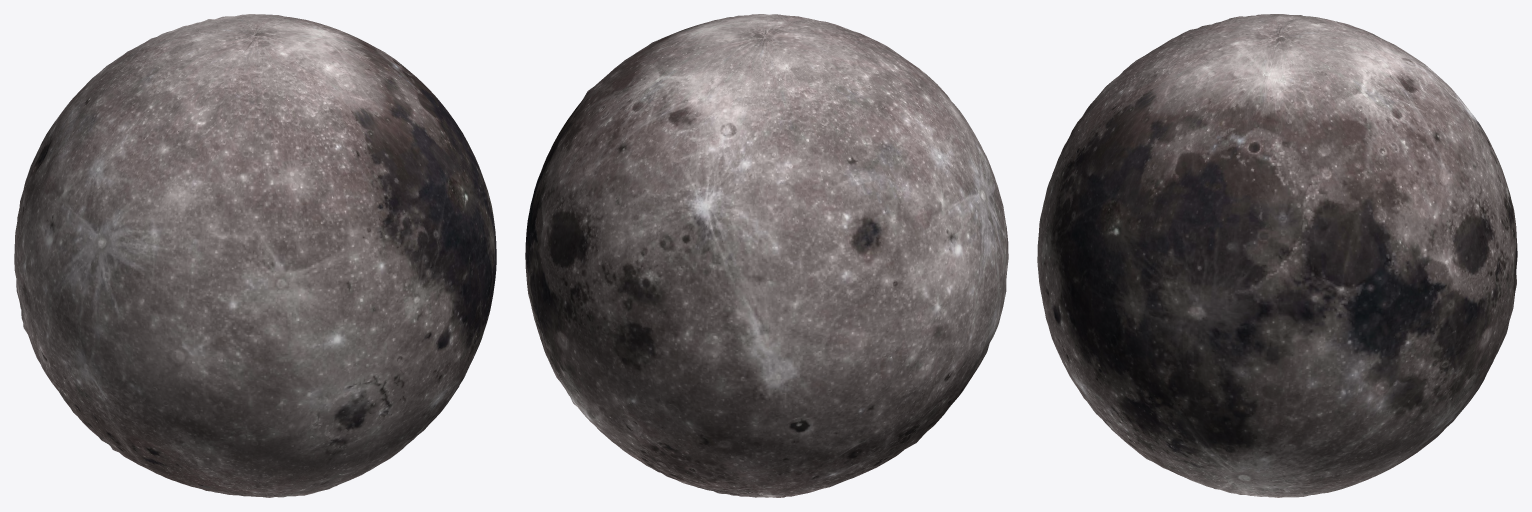
Rendered from nasa-moon-topo-128.glb.
The picture shows the model from 3 angles, left to right: view 1: azimuth 30°, elevation 25°; view 2: azimuth 150°, elevation 25°; view 3: azimuth 270°, elevation 25°; orthographic projection.
Parts seen in each view (by area): view 1: NASA Moon; view 2: NASA Moon; view 3: NASA Moon.
Part boxes in pixels (<box>): NASA Moon: <box>14,14,496,497</box>; NASA Moon: <box>525,14,1008,497</box>; NASA Moon: <box>1037,14,1517,497</box>.
Size of the model in its own units: 1.97 by 1.98 by 1.96.
Materials: 1 (1 with a texture image).
